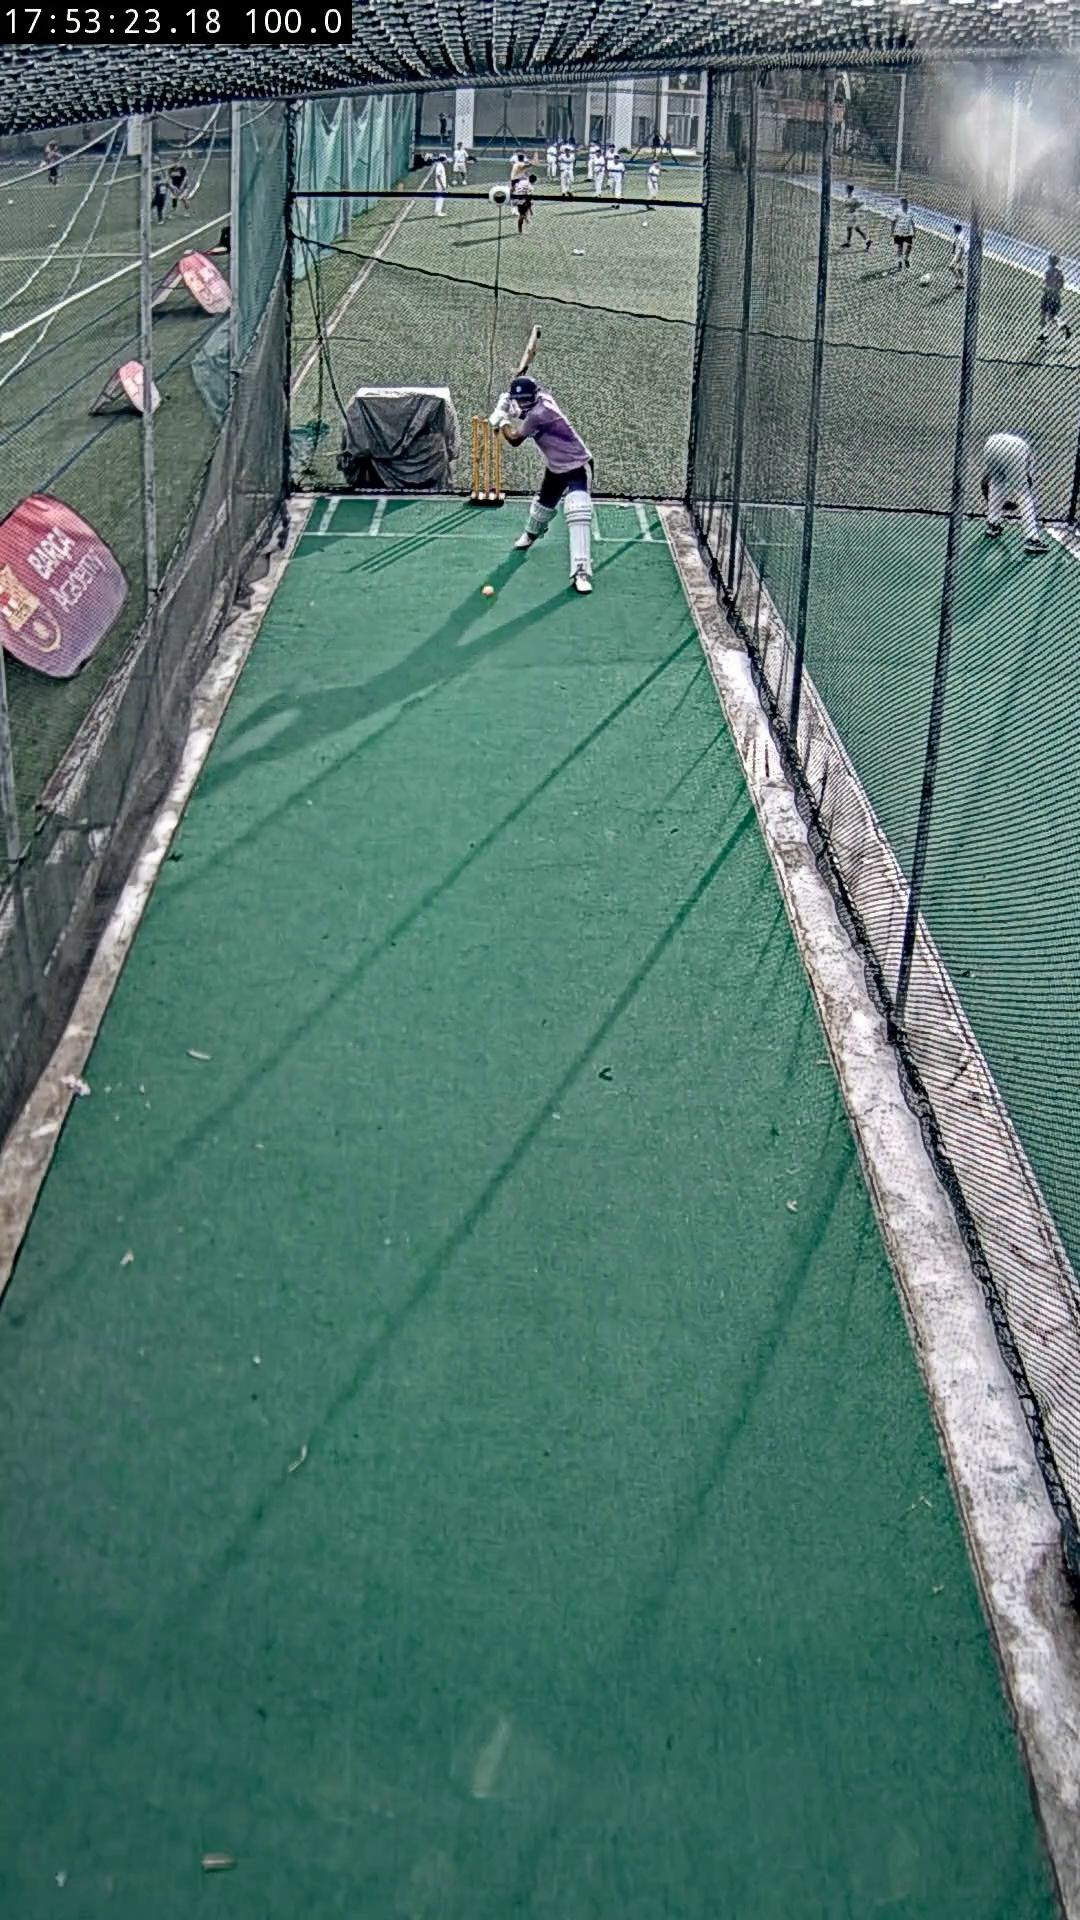ball: (480, 585, 495, 596)
bat: (514, 326, 541, 375)
gloves: (488, 394, 510, 430)
helmet: (510, 375, 541, 405)
pads: (563, 492, 592, 572), (525, 498, 555, 537)
stumps: (468, 417, 506, 506)
